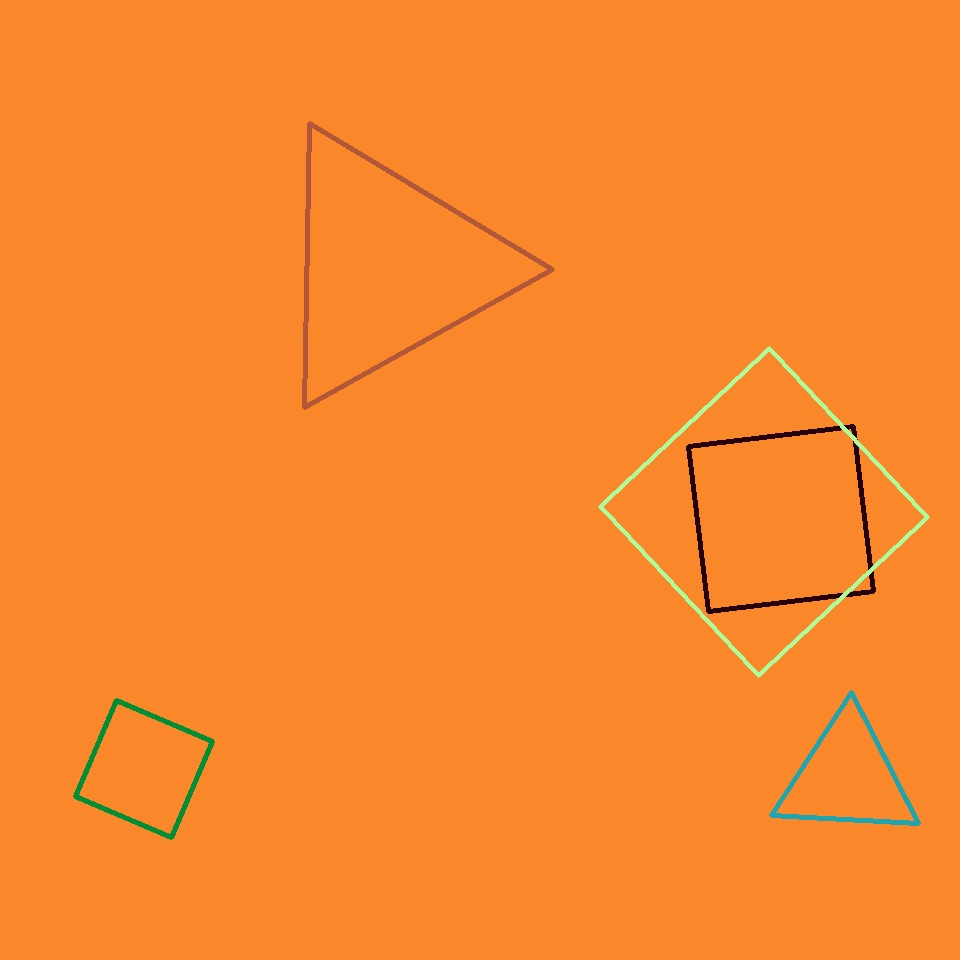circle: (265, 125, 513, 409), (774, 712, 920, 842)
square: (600, 348, 927, 676), (689, 426, 874, 612), (76, 700, 212, 837)
